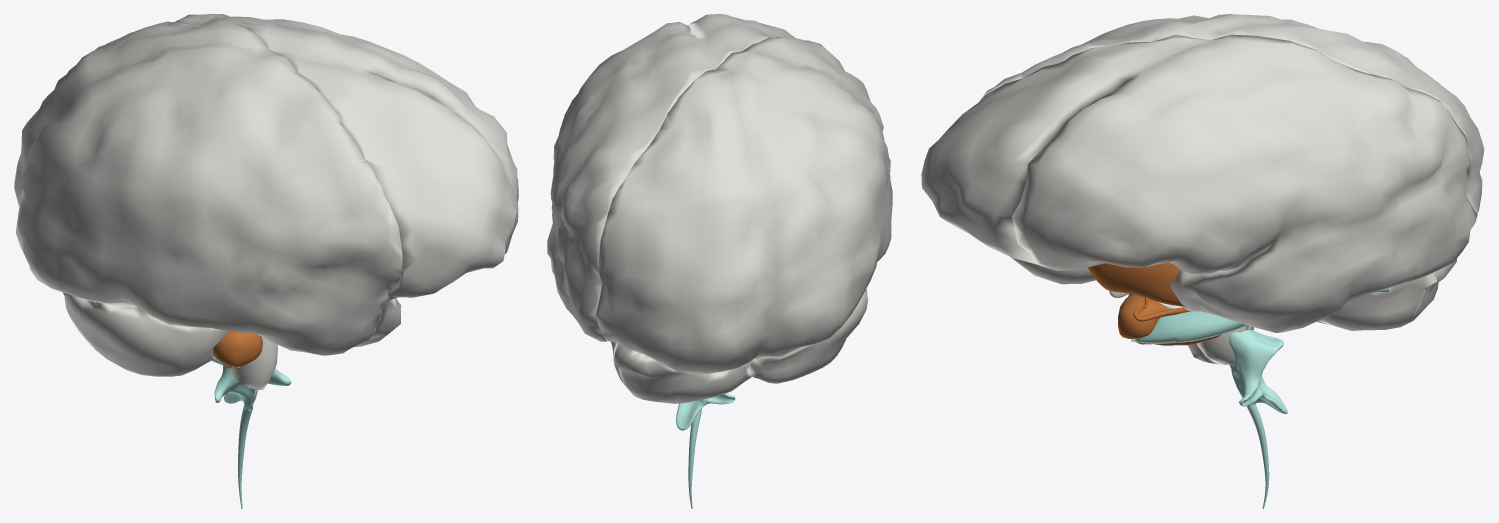
File: cns-diencephalon.glb
3 renders of one model, left to right at view 1: azimuth 30°, elevation 25°; view 2: azimuth 150°, elevation 25°; view 3: azimuth 270°, elevation 25°, orthographic. The views are drawn at different scales.
Visible parts, largest first — view 1: White_matter_of_telencephalon_R, White_matter_of_telencephalon_L, Amygdaloid_body_R, Fourth_ventricle, Central_canal; view 2: White_matter_of_telencephalon_R, White_matter_of_telencephalon_L, Fourth_ventricle, Central_canal; view 3: White_matter_of_telencephalon_L, White_matter_of_telencephalon_R, Fourth_ventricle, Putamen_L, Lateral_ventricle_L, Amygdaloid_body_L, Central_canal.
Part boxes in pixels (x1=…): White_matter_of_telencephalon_R: x1=14, y1=20, x2=402, y2=390; White_matter_of_telencephalon_L: x1=160, y1=14, x2=518, y2=366; Amygdaloid_body_R: x1=213, y1=331, x2=262, y2=366; Fourth_ventricle: x1=214, y1=366, x2=291, y2=410; Central_canal: x1=238, y1=406, x2=252, y2=508; White_matter_of_telencephalon_R: x1=595, y1=37, x2=892, y2=403; White_matter_of_telencephalon_L: x1=547, y1=14, x2=807, y2=382; Fourth_ventricle: x1=676, y1=393, x2=735, y2=430; Central_canal: x1=688, y1=411, x2=701, y2=508; White_matter_of_telencephalon_L: x1=921, y1=34, x2=1477, y2=364; White_matter_of_telencephalon_R: x1=958, y1=14, x2=1484, y2=364; Fourth_ventricle: x1=1229, y1=330, x2=1287, y2=413; Putamen_L: x1=1087, y1=262, x2=1185, y2=306; Lateral_ventricle_L: x1=1131, y1=288, x2=1389, y2=343; Amygdaloid_body_L: x1=1118, y1=295, x2=1169, y2=338; Central_canal: x1=1247, y1=404, x2=1269, y2=508.
Size of the model in its own units: 0.1378 by 0.1684 by 0.1807.
